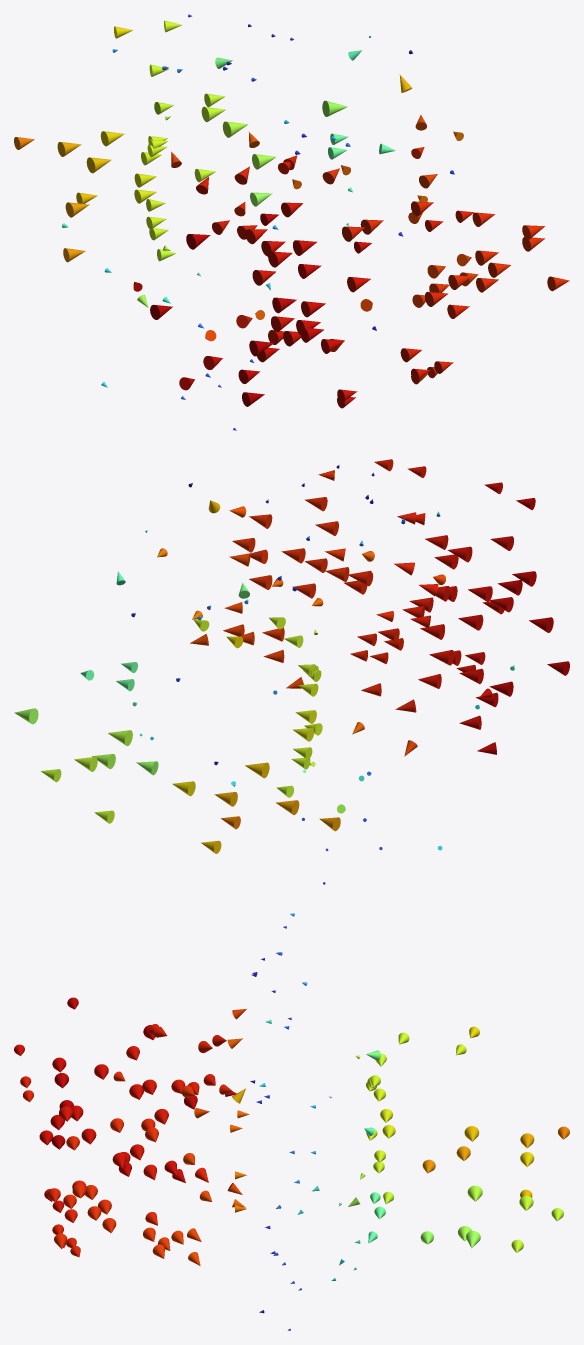
Rendered from LineasCorrienteH2-O2_mh2-8.20_V-0.7.glb.
The picture shows the model from 3 angles, top to bottom: view 1: azimuth 30°, elevation 25°; view 2: azimuth 150°, elevation 25°; view 3: azimuth 270°, elevation 25°; orthographic projection. The views are drawn at different scales.
Size of the model in its own units: 0.000925 by 0.000951 by 0.00125.
Materials: 2 (2 with a texture image).
